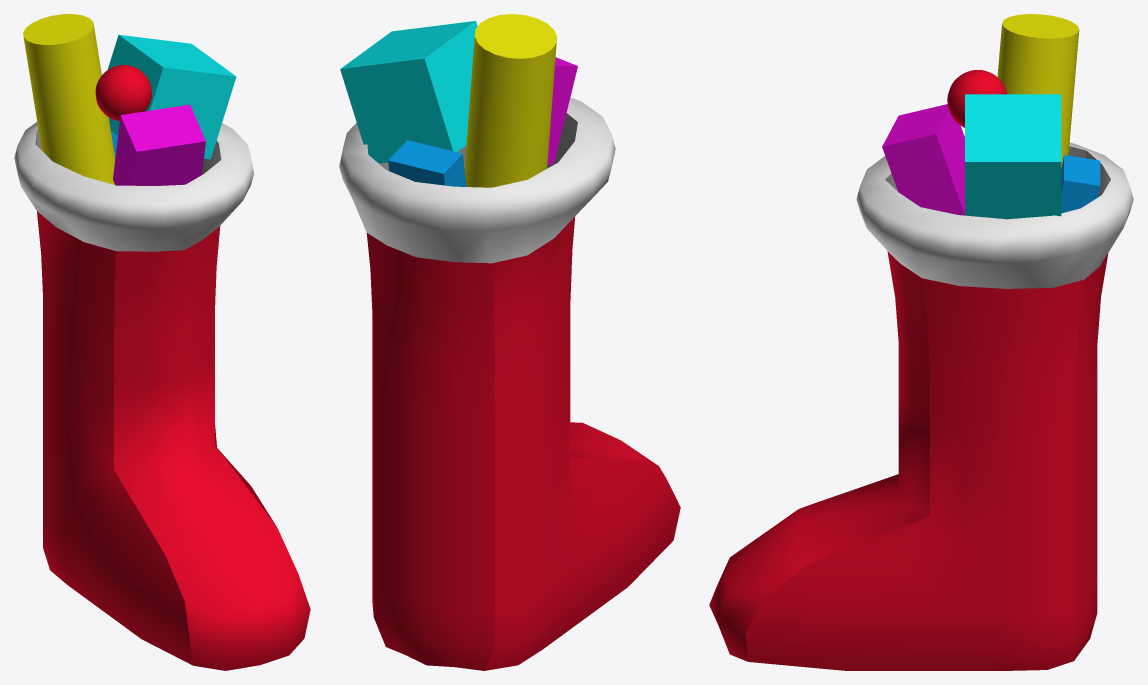
Rendered from プレゼント詰め合せ.fbx.
3 views of the same model, side by side, from view 1: azimuth 30°, elevation 25°; view 2: azimuth 150°, elevation 25°; view 3: azimuth 270°, elevation 25° (orthographic). The views are drawn at different scales.
Parts seen in each view (by area): view 1: pCube7; view 2: pCube7; view 3: pCube7.
Boxes of the visible parts, <box> form: pCube7: <box>14,14,310,670</box>; pCube7: <box>339,14,680,670</box>; pCube7: <box>709,14,1133,670</box>.
Bounding box in the file's own units: 2.62 × 6.81 × 4.4.
